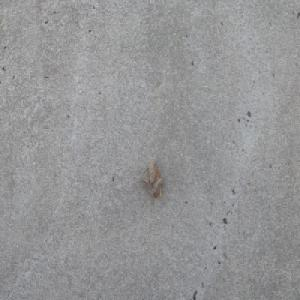Rock: (139, 157, 162, 199)
